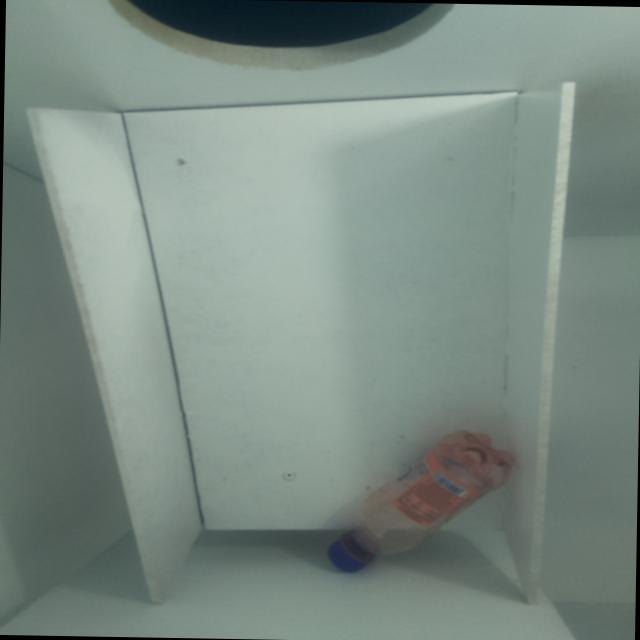good: (299, 414, 536, 581)
